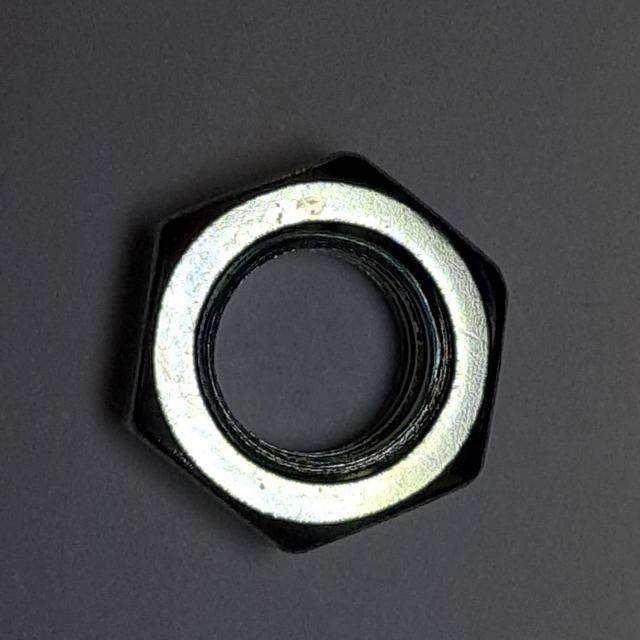Excellent: (109, 135, 525, 569)
